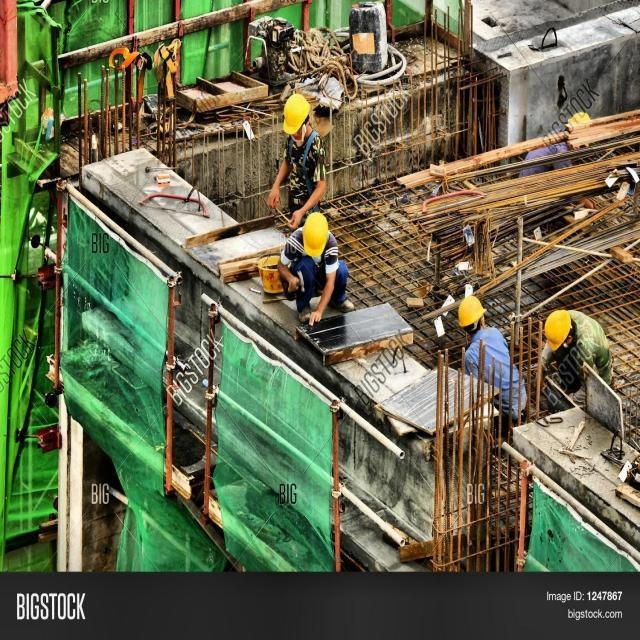Arnes_seguridad: (285, 129, 322, 184)
